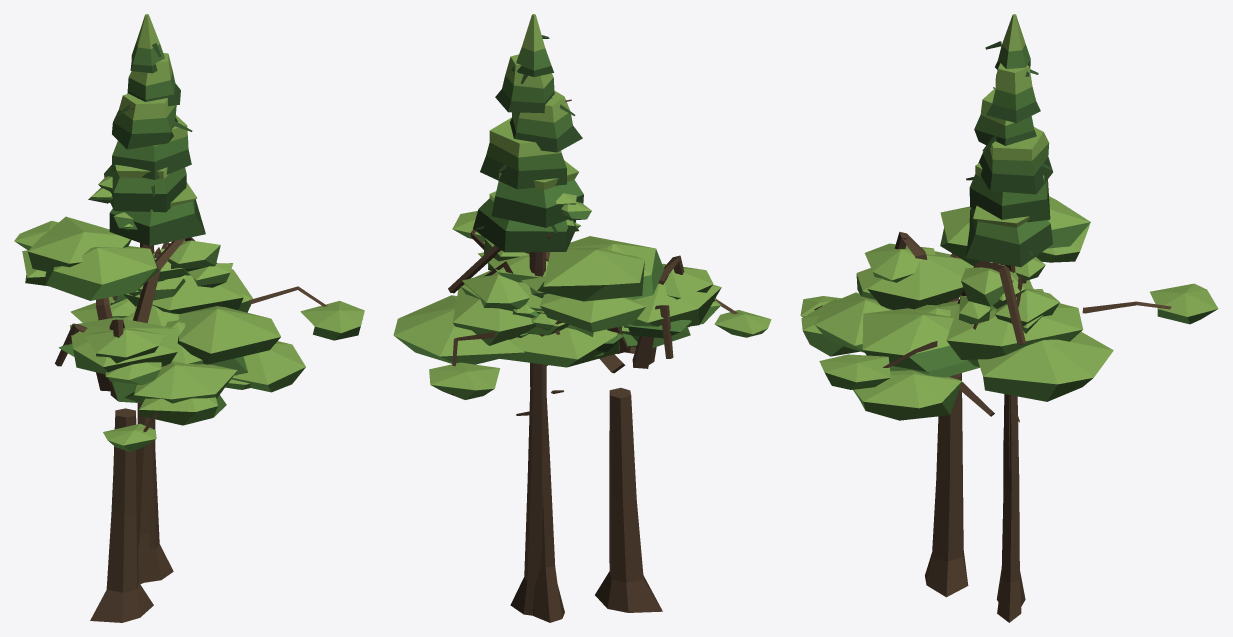
Rendered from props_canopy.glb.
3 views of the same model, side by side, from view 1: azimuth 30°, elevation 25°; view 2: azimuth 150°, elevation 25°; view 3: azimuth 270°, elevation 25° (orthographic). The views are drawn at different scales.
Visible parts, largest first — view 1: Canopy_Broadleaf_LOD0, Canopy_Fir_LOD0, Canopy_Pine_LOD0; view 2: Canopy_Broadleaf_LOD0, Canopy_Fir_LOD0, Canopy_Pine_LOD0; view 3: Canopy_Broadleaf_LOD0, Canopy_Fir_LOD0, Canopy_Pine_LOD0.
Boxes of the visible parts, x1,y1,x2,y2 form: Canopy_Broadleaf_LOD0: [14, 216, 364, 622]; Canopy_Fir_LOD0: [104, 14, 205, 582]; Canopy_Pine_LOD0: [88, 176, 233, 584]; Canopy_Broadleaf_LOD0: [393, 211, 771, 612]; Canopy_Fir_LOD0: [473, 14, 583, 615]; Canopy_Pine_LOD0: [461, 193, 603, 622]; Canopy_Broadleaf_LOD0: [800, 196, 1218, 597]; Canopy_Fir_LOD0: [965, 14, 1052, 622]; Canopy_Pine_LOD0: [958, 257, 1059, 606].
Size of what is drawn, in the model's own units: 8.4 by 16.5 by 10.5.
